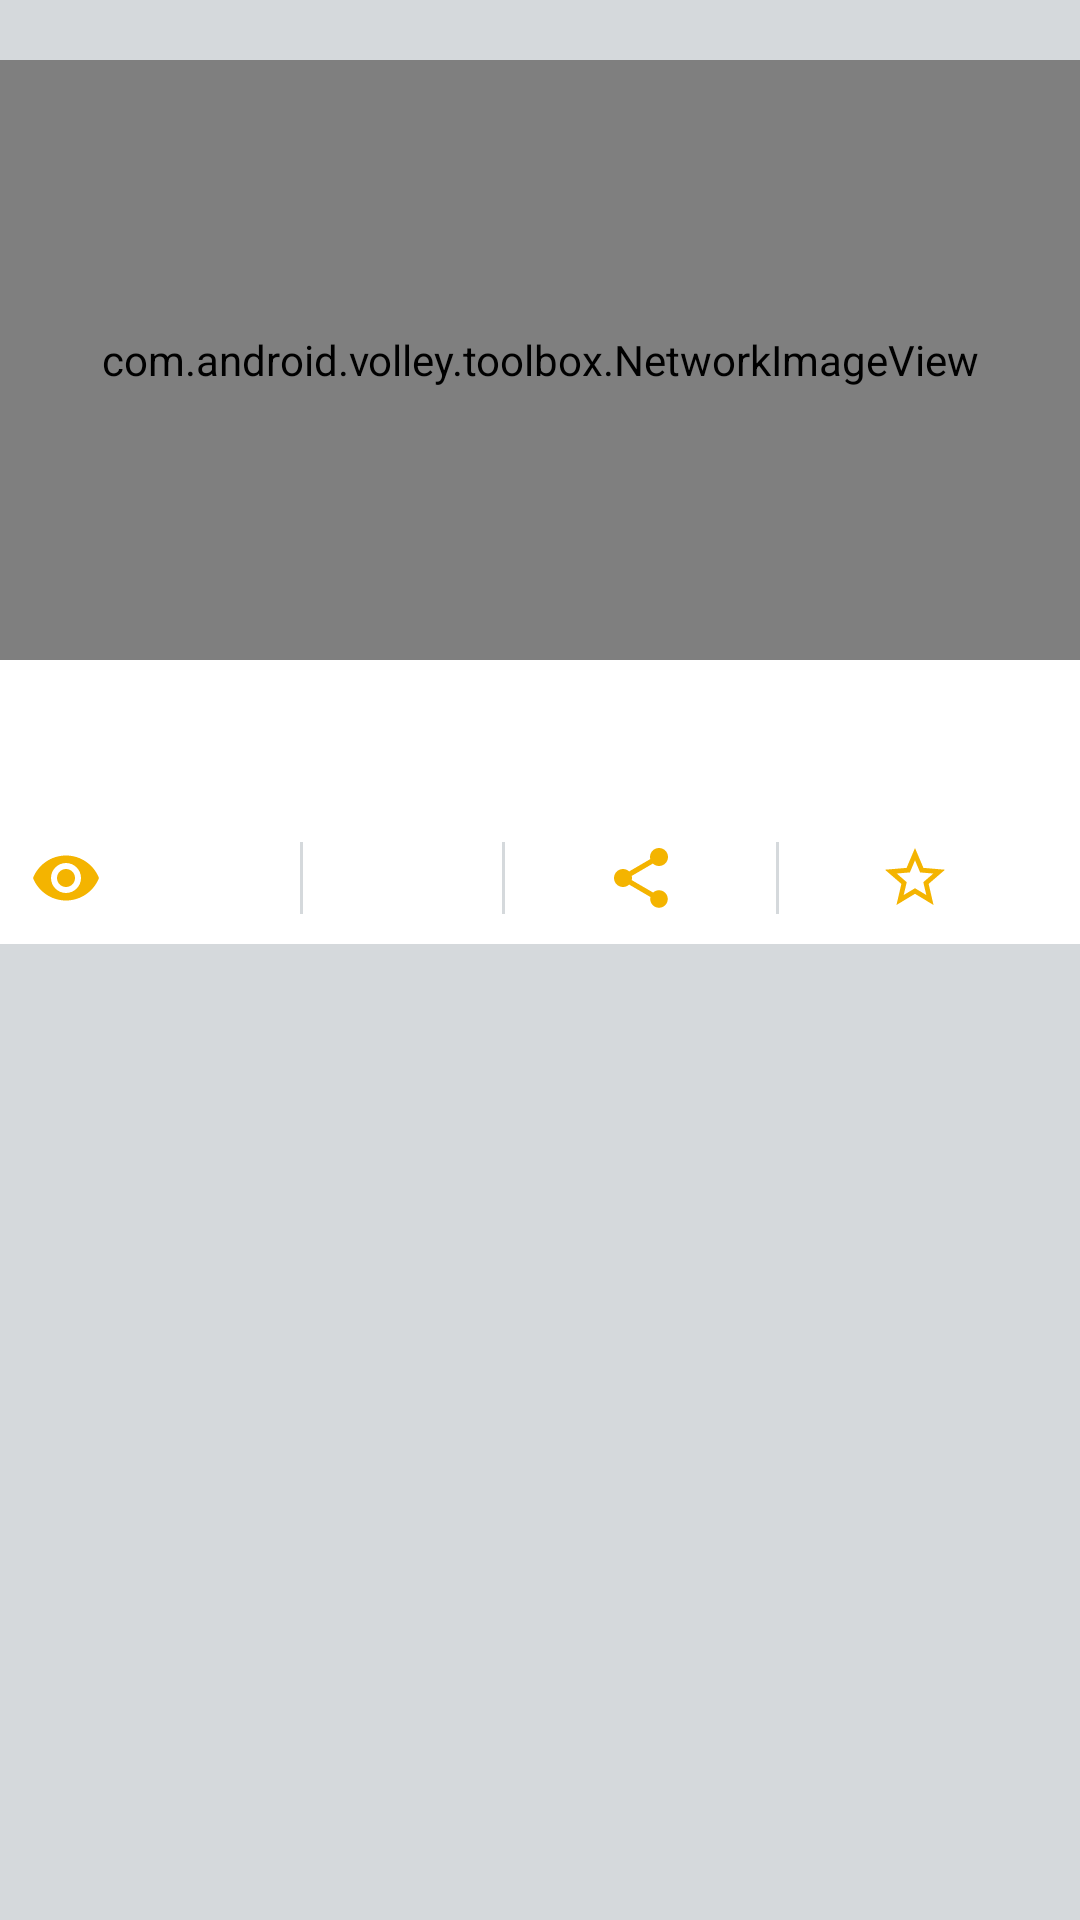

Where to tap for icons on this 1080×1920 app screen, as (x=x, y=y):
Compartilhar o Post: (x=641, y=878)
Favoritar o Post: (x=915, y=876)
